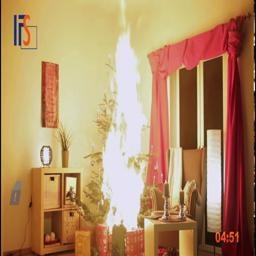fire: (81, 0, 161, 236)
